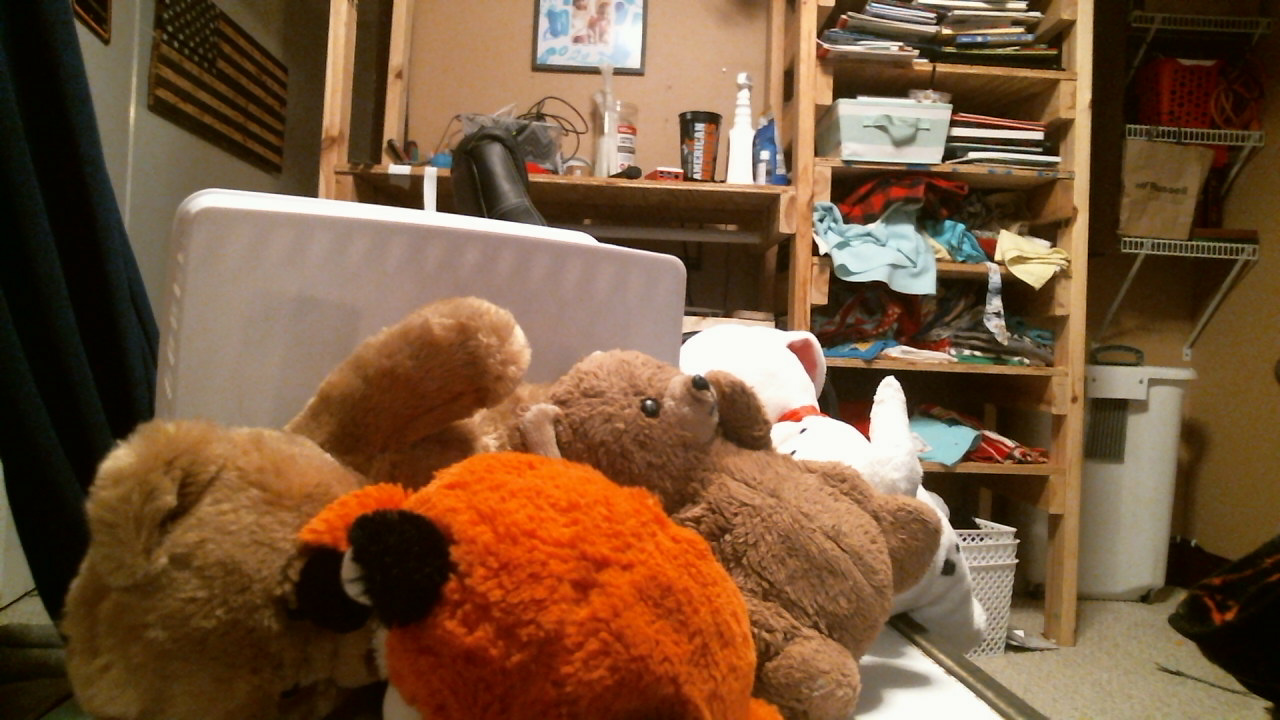Little_Mister_Bear: (619, 377, 744, 455)
